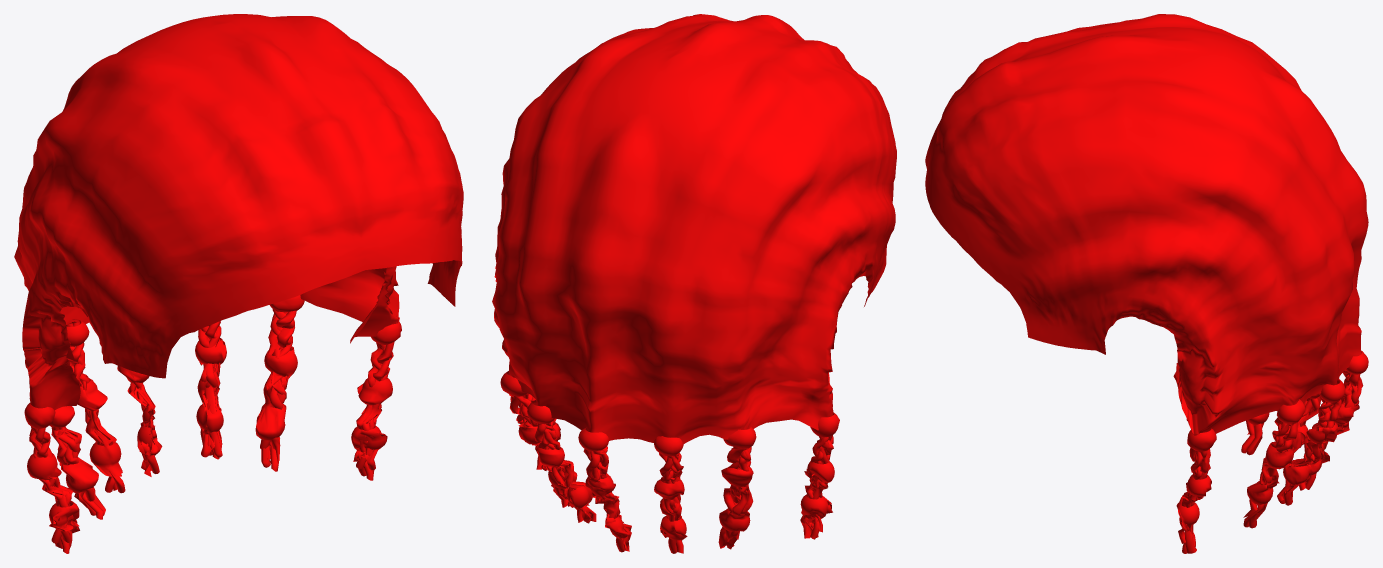
Rendered from elvs_braided_rows_F.glb.
3 renders of one model, left to right at view 1: azimuth 30°, elevation 25°; view 2: azimuth 150°, elevation 25°; view 3: azimuth 270°, elevation 25°, orthographic. The views are drawn at different scales.
Size of the model in its own units: 0.1819 by 0.2319 by 0.2043.
Materials: 1 (1 with a texture image).
